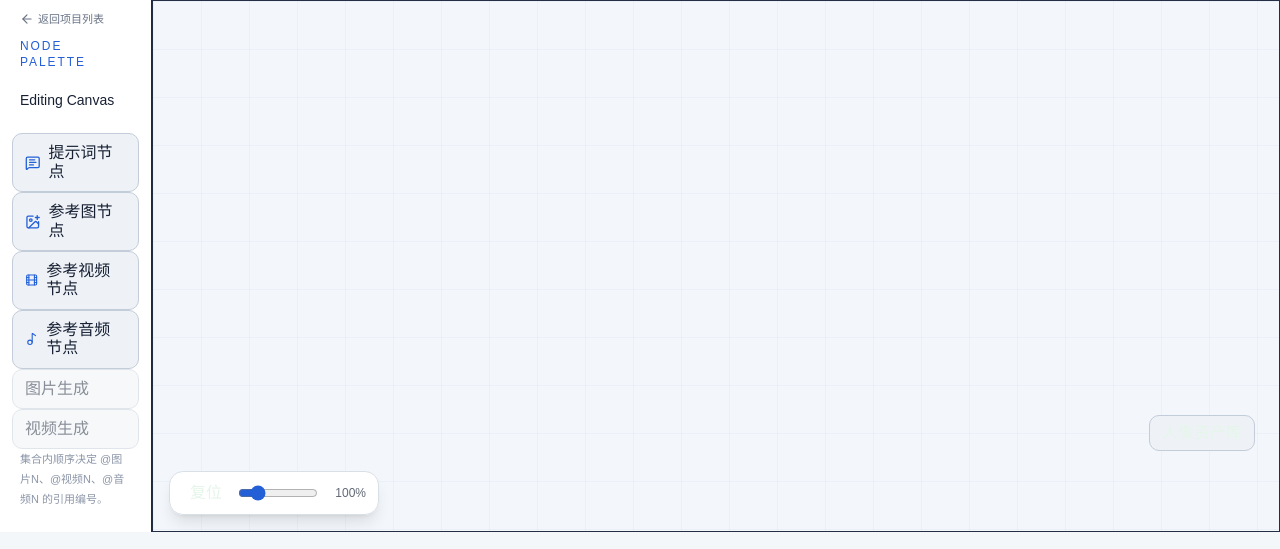
Scenario: blank canvas creation menu › closes the creation menu with Escape and restores focus to the canvas
The width and height of the screenshot is (1280, 549).
Right-click the element with test id "infinite-canvas".
right_click(716, 266)  # box x1=153 y1=1 x2=1279 y2=531
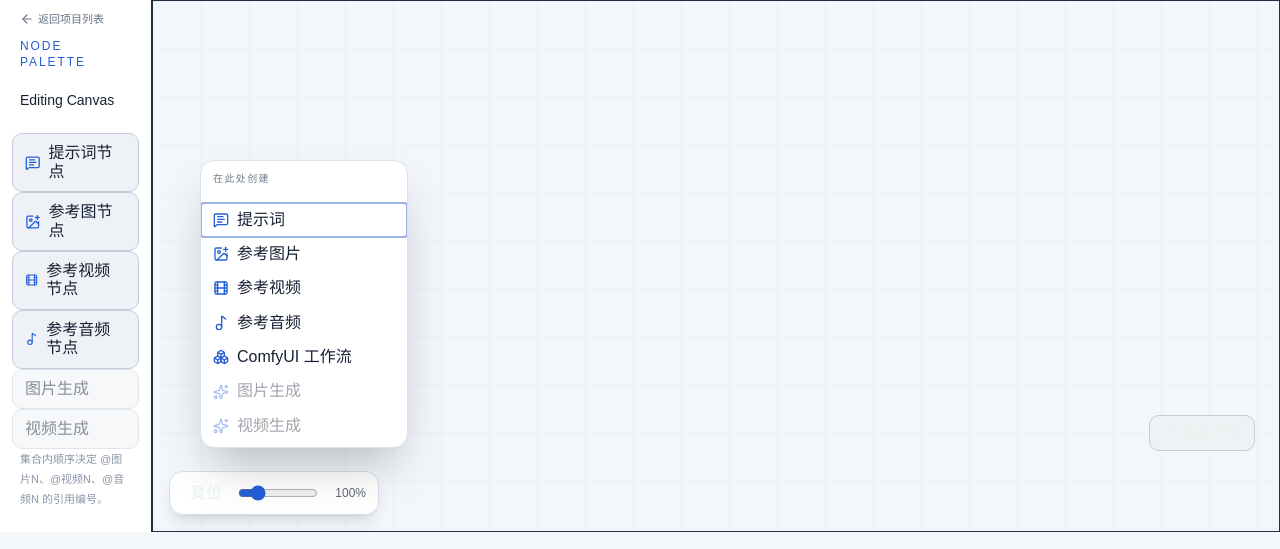
Press Escape in the menu item "提示词", box x1=201 y1=202 x2=407 y2=237
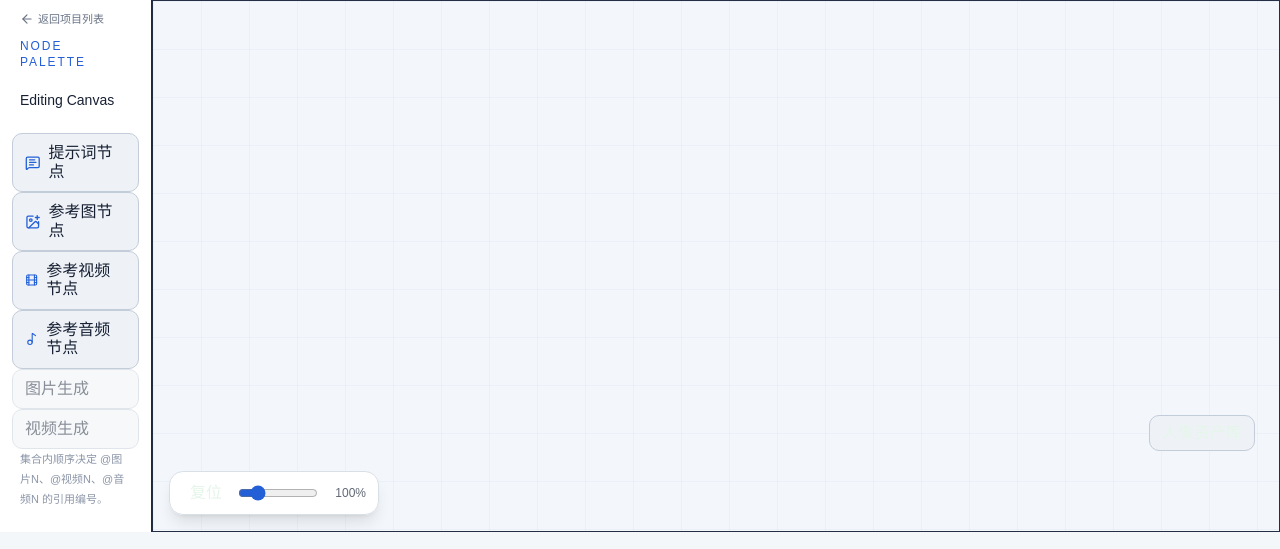
Expected: the menu "创建节点" is gone
